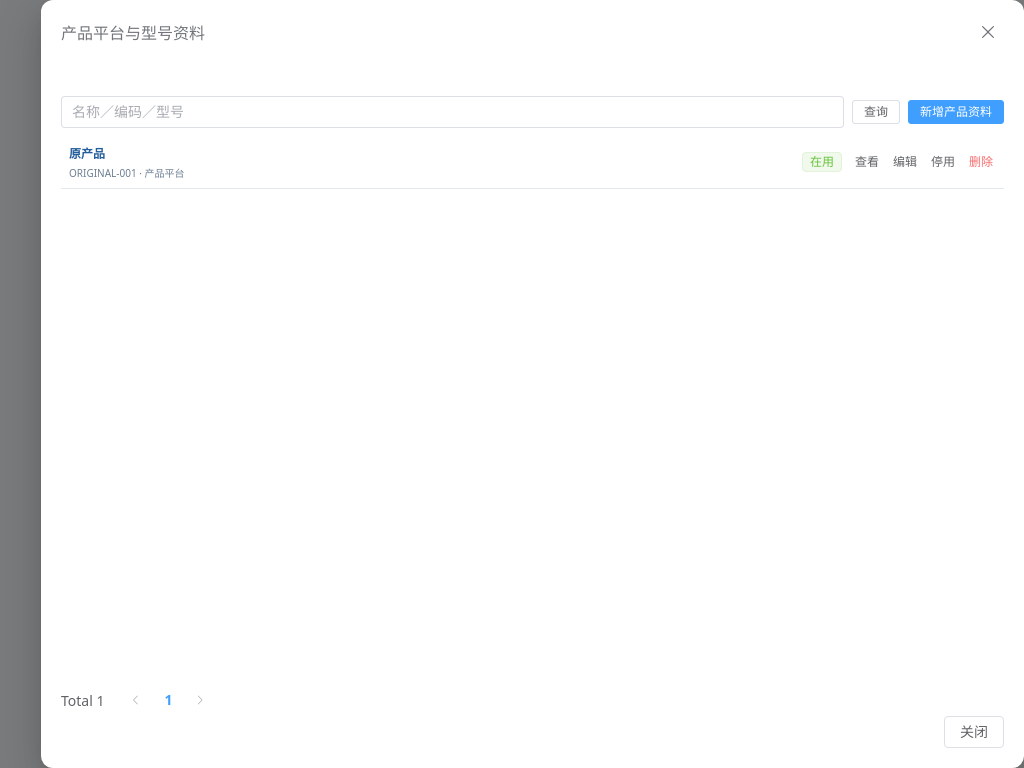
Scenario: existing product master maintenance › offers persisted list detail and all lifecycle entries without registering a research project
What coordinates should you click on to do the following:
click the button "查看"
I would click on:
 (867, 162)
Its box is 852,153 -> 882,171.
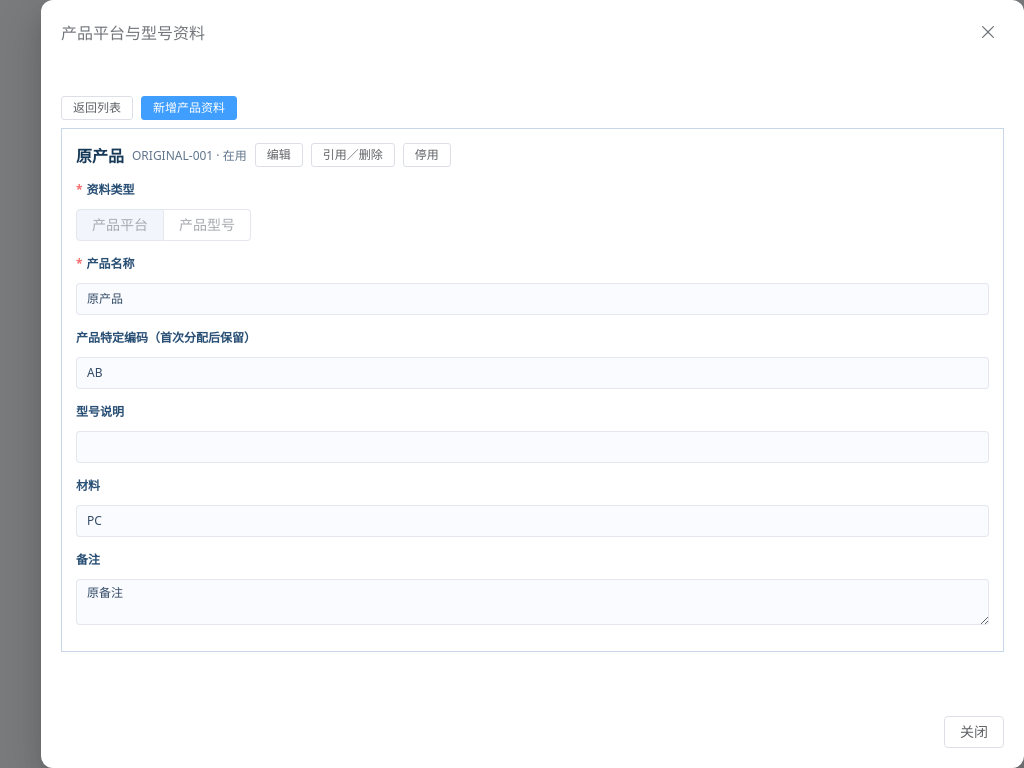
expect the text "引用／删除" is shown: met, box 323,149 -> 383,161
